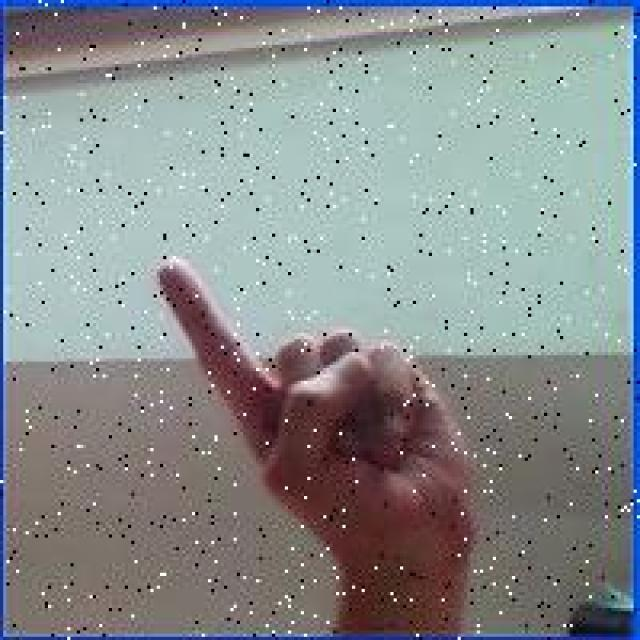Z: (149, 256, 472, 538)
